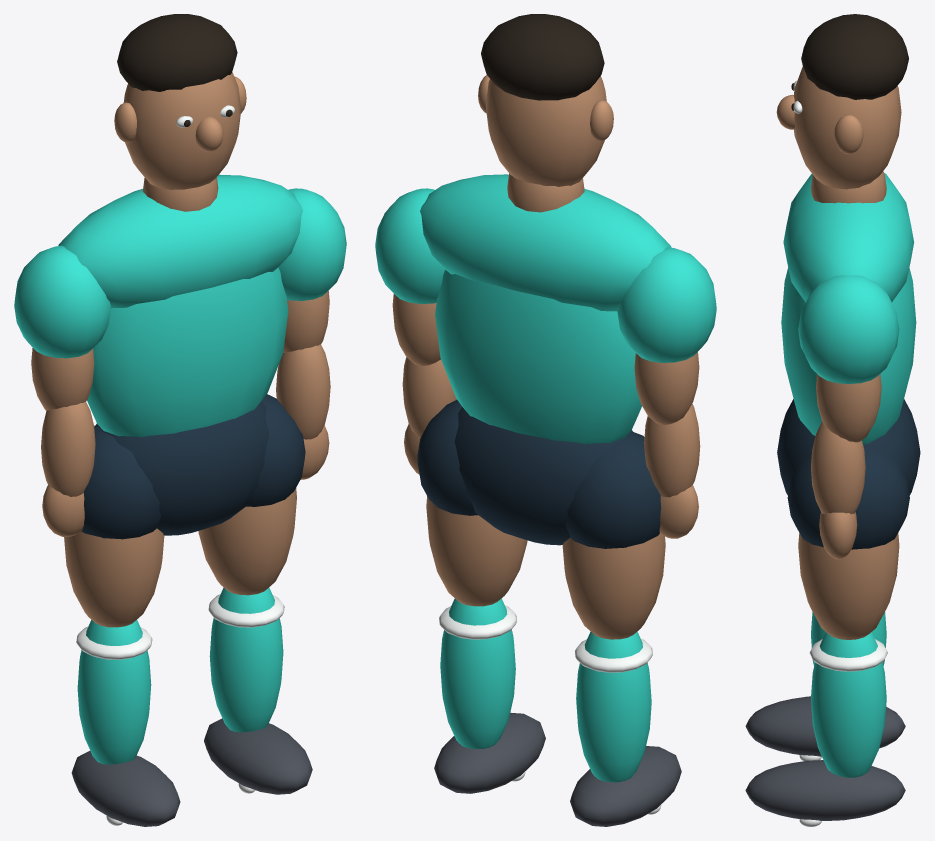
The model's file is nova-athlete.glb.
3 views of the same model, side by side, from view 1: azimuth 30°, elevation 25°; view 2: azimuth 150°, elevation 25°; view 3: azimuth 270°, elevation 25° (orthographic). The views are drawn at different scales.
Visible parts, largest first — view 1: Jersey, Shoulders, Shorts, Head, SleeveL, CalfL, CalfR, ThighL, Hair, ThighR, ShortLegL, BootR (+14 smaller); view 2: Jersey, Shoulders, Shorts, Head, SleeveL, CalfL, CalfR, Hair, ThighL, ShortLegL, ThighR, SleeveR (+12 smaller); view 3: Shoulders, SleeveR, CalfR, Head, ThighR, Hair, BootR, Jersey, ShortLegR, Shorts, ForearmR, BootL (+7 smaller).
Boxes of the visible parts, x1=… form: Jersey: x1=87, y1=267, x2=288, y2=436; Shoulders: x1=58, y1=174, x2=302, y2=308; Shorts: x1=95, y1=401, x2=269, y2=535; Head: x1=123, y1=72, x2=241, y2=189; SleeveL: x1=14, y1=245, x2=110, y2=358; CalfL: x1=77, y1=620, x2=151, y2=764; CalfR: x1=209, y1=587, x2=283, y2=732; ThighL: x1=64, y1=528, x2=164, y2=627; Hair: x1=117, y1=14, x2=237, y2=91; ThighR: x1=198, y1=488, x2=296, y2=595; ShortLegL: x1=81, y1=425, x2=160, y2=539; BootR: x1=204, y1=718, x2=312, y2=794; Jersey: x1=435, y1=269, x2=641, y2=443; Shoulders: x1=420, y1=174, x2=671, y2=311; Shorts: x1=454, y1=407, x2=633, y2=545; Head: x1=485, y1=76, x2=606, y2=186; SleeveL: x1=617, y1=247, x2=716, y2=362; CalfL: x1=576, y1=631, x2=651, y2=782; CalfR: x1=440, y1=598, x2=515, y2=749; Hair: x1=481, y1=14, x2=604, y2=100; ThighL: x1=562, y1=533, x2=665, y2=639; ShortLegL: x1=566, y1=432, x2=661, y2=548; ThighR: x1=426, y1=496, x2=527, y2=606; SleeveR: x1=375, y1=188, x2=444, y2=303; Shoulders: x1=783, y1=173, x2=914, y2=302; SleeveR: x1=798, y1=275, x2=899, y2=383; CalfR: x1=811, y1=632, x2=886, y2=777; Head: x1=793, y1=66, x2=901, y2=189; ThighR: x1=798, y1=533, x2=899, y2=639; Hair: x1=801, y1=14, x2=908, y2=99; BootR: x1=745, y1=760, x2=905, y2=820; Jersey: x1=781, y1=267, x2=916, y2=444; ShortLegR: x1=787, y1=447, x2=909, y2=549; Shorts: x1=777, y1=399, x2=920, y2=495; ForearmR: x1=811, y1=421, x2=865, y2=514; BootL: x1=745, y1=696, x2=905, y2=756.
Size of the model in its own units: 0.87 by 2 by 0.415.
